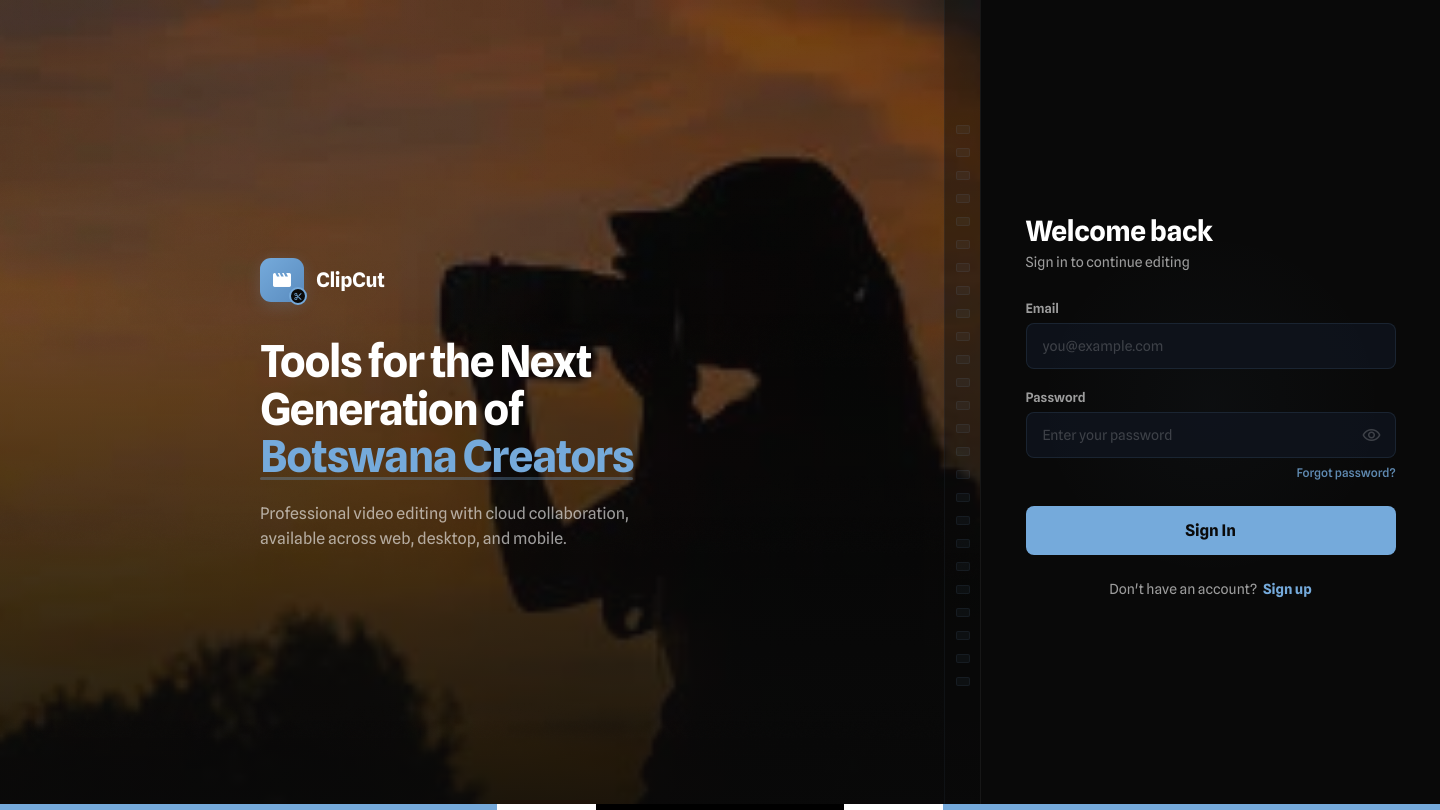
Test case: DesktopLogin › shows validation errors when form is submitted empty
Click the button "Sign In": (1210, 530) [1026,506,1396,554]
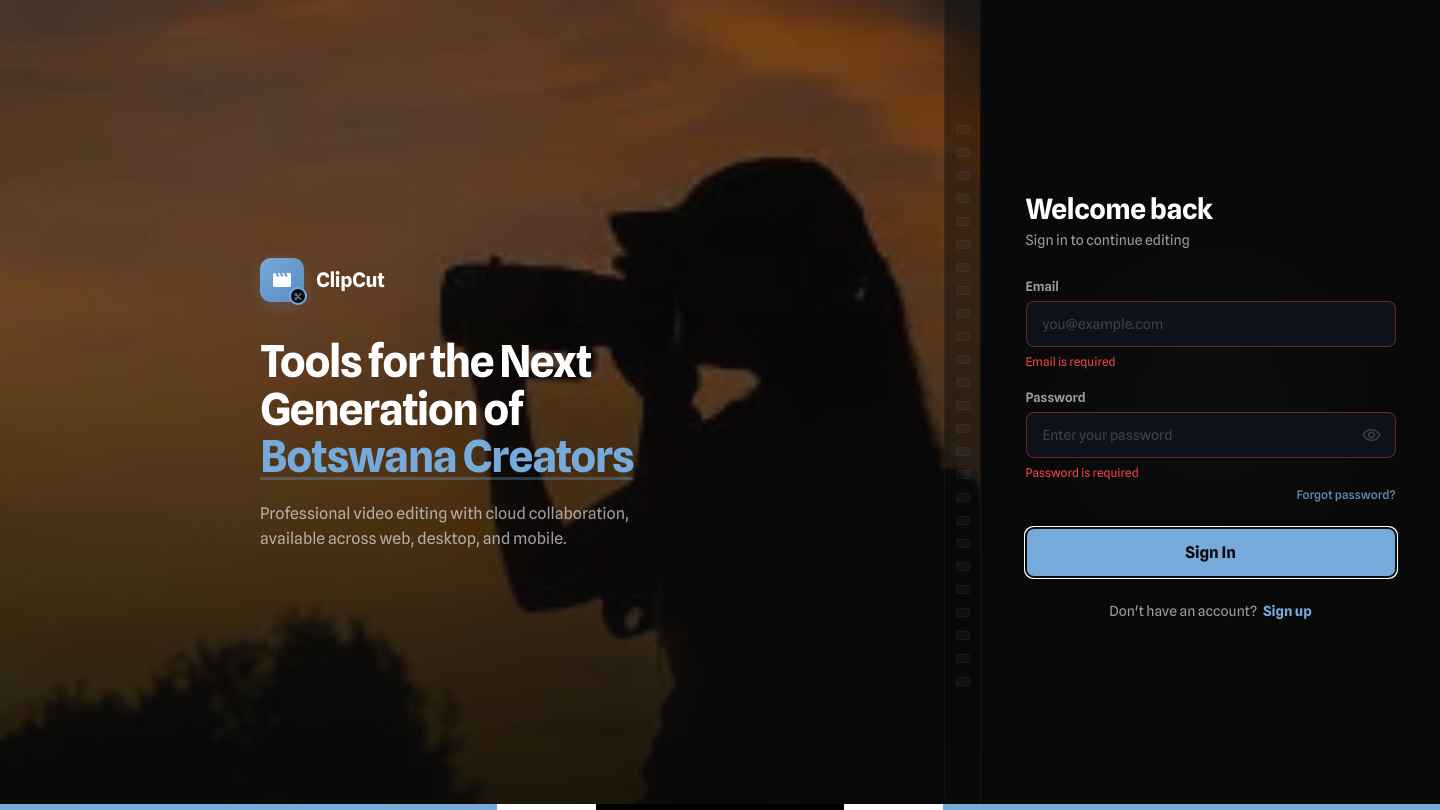
expect the message "Email is required" is shown: met, box [1026,354,1116,368]
